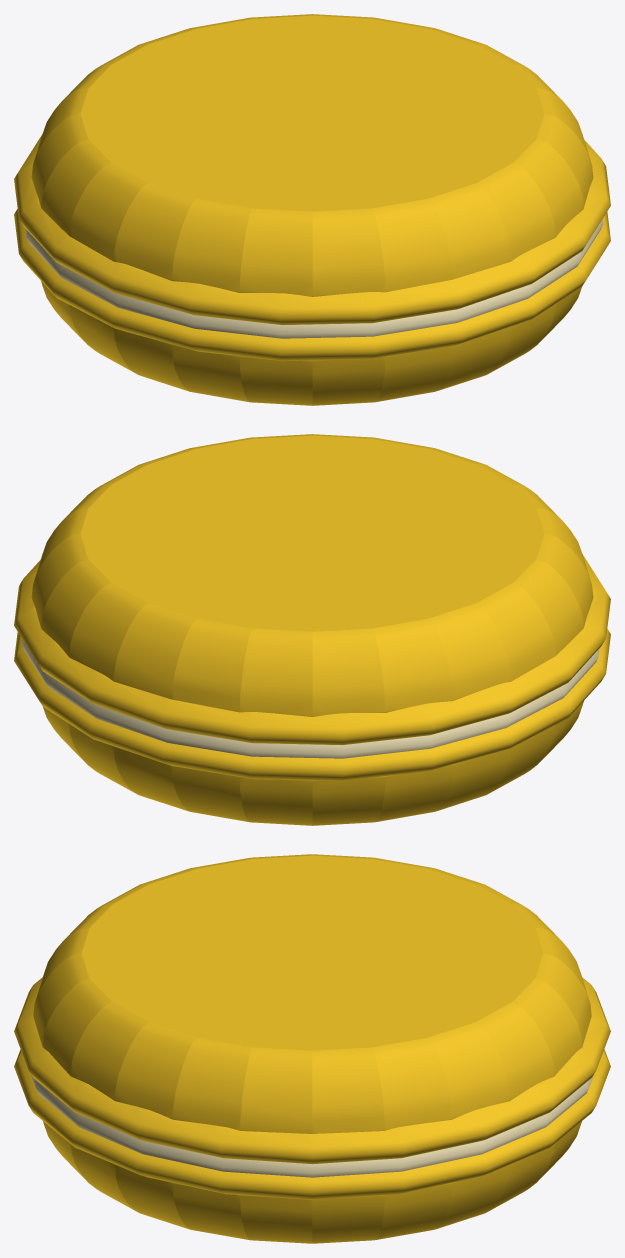
The model's file is macaroons.fbx.
3 renders of one model, top to bottom at view 1: azimuth 30°, elevation 25°; view 2: azimuth 150°, elevation 25°; view 3: azimuth 270°, elevation 25°, orthographic.
Parts seen in each view (by area): view 1: macaron; view 2: macaron; view 3: macaron.
Part boxes in pixels (bbox=[...]): macaron: bbox=[14, 14, 610, 405]; macaron: bbox=[14, 434, 610, 825]; macaron: bbox=[14, 854, 610, 1243].
Bounding box in the file's own units: 2.18 × 0.7699 × 2.18.
Materials: 1 (1 with a texture image).
